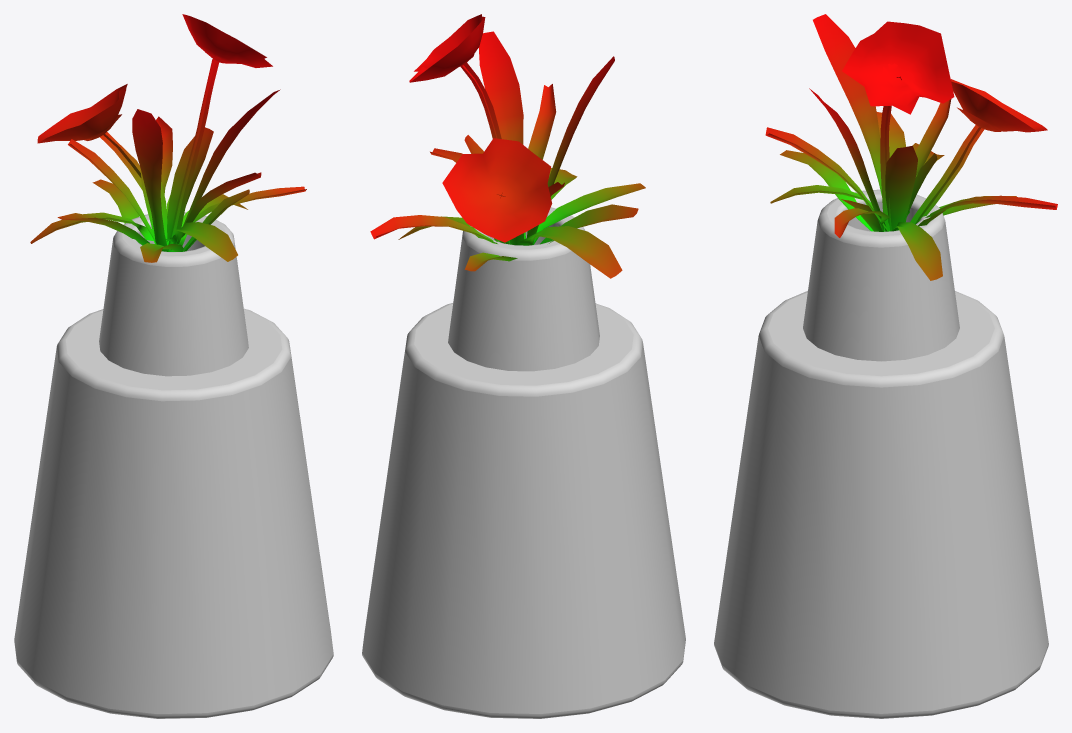
File: Flower-Pot.fbx
3 renders of one model, left to right at view 1: azimuth 30°, elevation 25°; view 2: azimuth 150°, elevation 25°; view 3: azimuth 270°, elevation 25°, orthographic. The views are drawn at different scales.
Parts seen in each view (by area): view 1: Flower-Pot, Flower; view 2: Flower-Pot, Flower; view 3: Flower-Pot, Flower.
Boxes of the visible parts, x1,y1,x2,y2 form: Flower-Pot: (14, 212, 333, 718); Flower: (30, 14, 306, 262); Flower-Pot: (362, 207, 685, 718); Flower: (370, 14, 645, 278); Flower-Pot: (714, 189, 1048, 718); Flower: (765, 14, 1057, 280).
Bounding box in the file's own units: 18.71 × 39.88 × 19.22.
